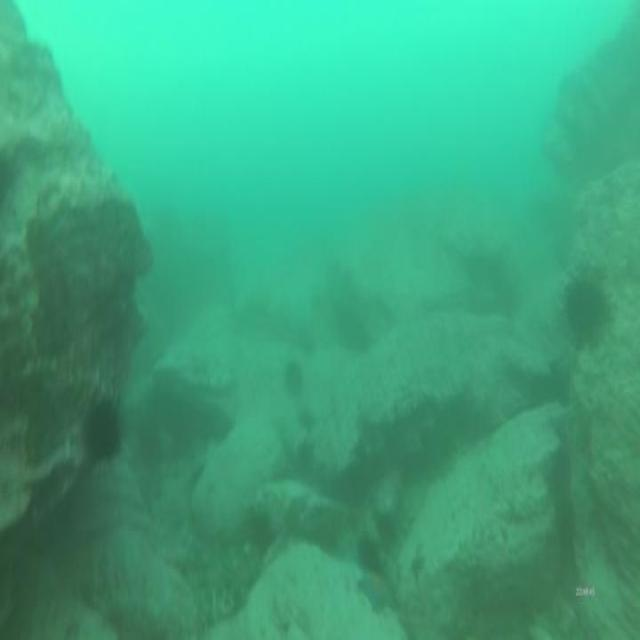echinus: (558, 270, 612, 354), (80, 392, 124, 468), (374, 502, 402, 550), (354, 530, 382, 576), (282, 356, 305, 402)
starfish: (357, 571, 399, 621)
